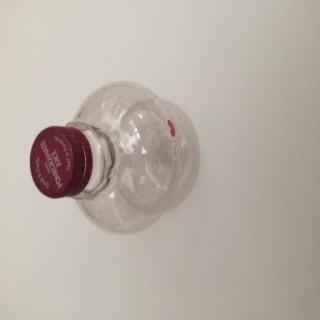Plastic-bottle: (28, 79, 203, 241)
